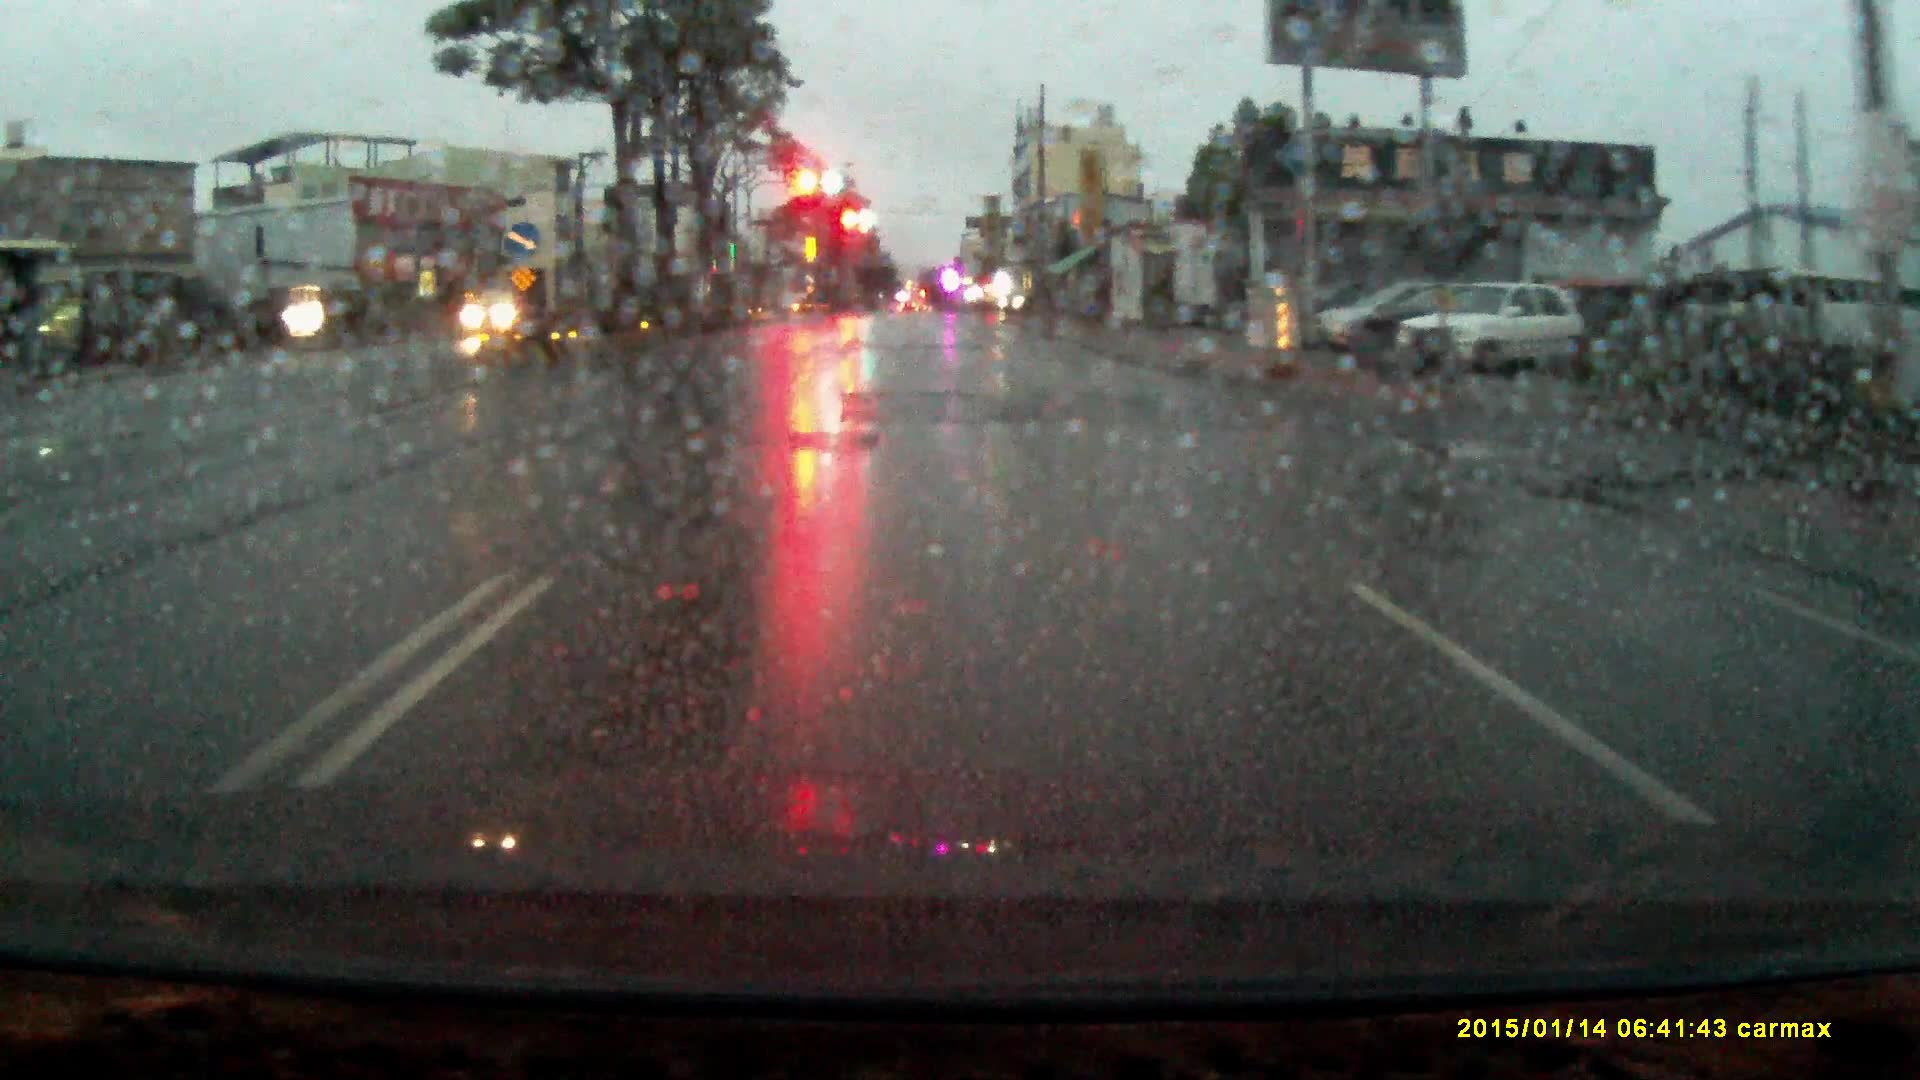vehicle: (1393, 282, 1592, 378), (1340, 286, 1484, 363), (1317, 286, 1424, 359), (460, 291, 549, 342), (1004, 287, 1062, 320)
